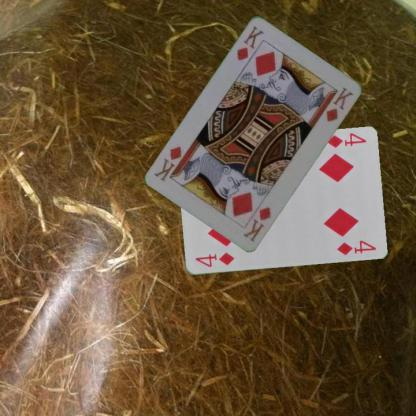4d: (192, 250, 235, 269), (324, 131, 367, 150)
Kd: (240, 204, 272, 244), (234, 23, 265, 63)
